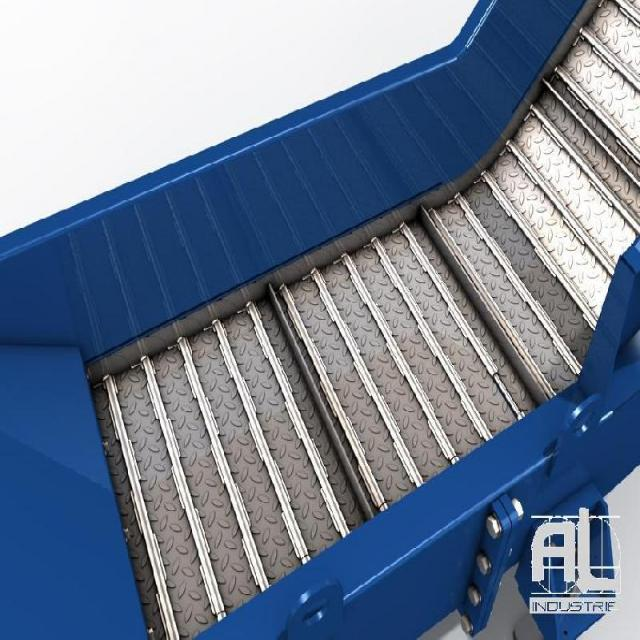Convoyeur: (67, 2, 638, 640)
